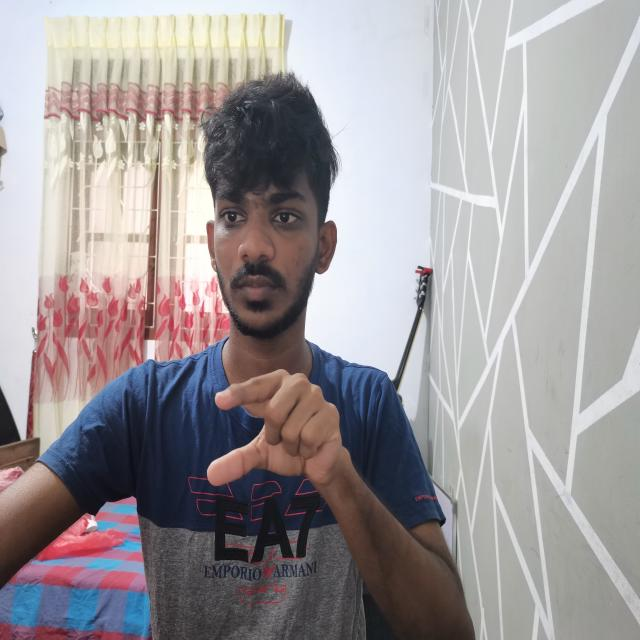No: (199, 363, 349, 508)
